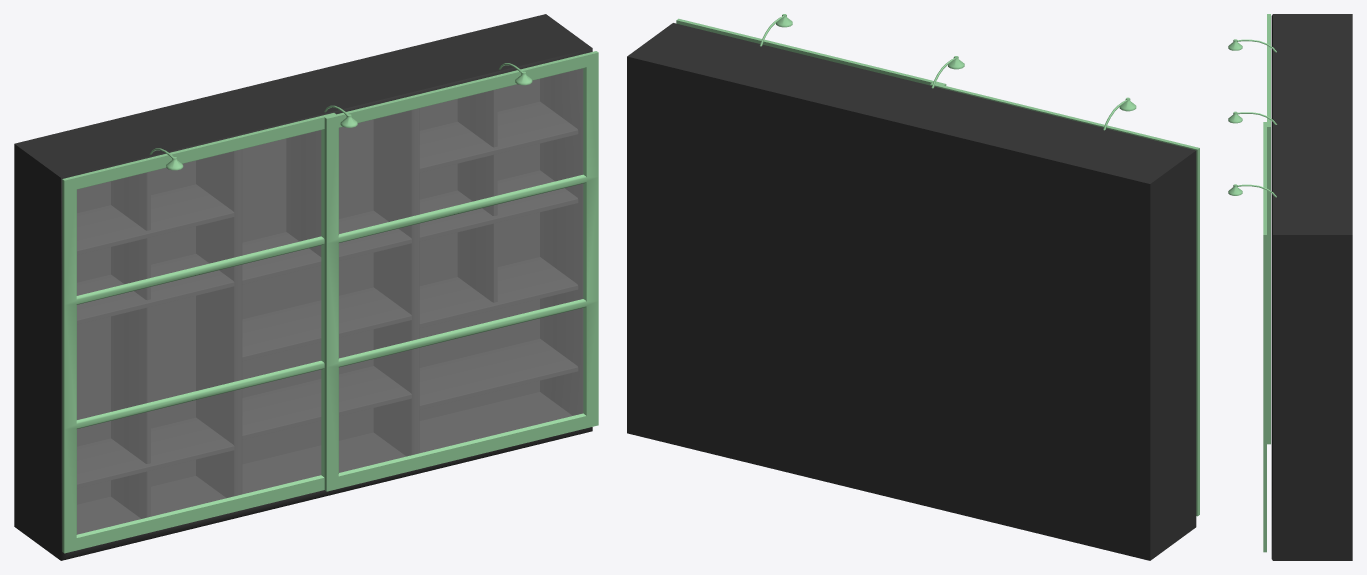
File: PaxlyngdalPairofslidingdoorsWhole.FBX
3 renders of one model, left to right at view 1: azimuth 30°, elevation 25°; view 2: azimuth 150°, elevation 25°; view 3: azimuth 270°, elevation 25°, orthographic. The views are drawn at different scales.
Visible parts, largest first — view 1: PaxlyngdalPairofslidingdoorsWhole; view 2: PaxlyngdalPairofslidingdoorsWhole; view 3: PaxlyngdalPairofslidingdoorsWhole.
Part boxes in pixels (bbox=[...]): PaxlyngdalPairofslidingdoorsWhole: bbox=[14, 14, 598, 560]; PaxlyngdalPairofslidingdoorsWhole: bbox=[627, 14, 1199, 560]; PaxlyngdalPairofslidingdoorsWhole: bbox=[1228, 14, 1352, 560].
Bounding box in the file's own units: 300 × 71.49 × 214.
